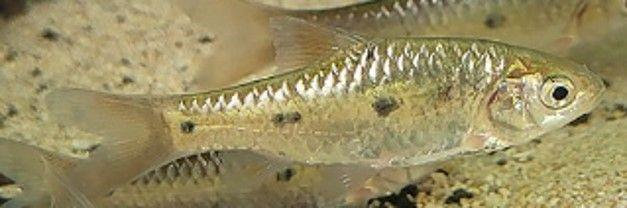Black Spotted Barb: (48, 11, 608, 200)
